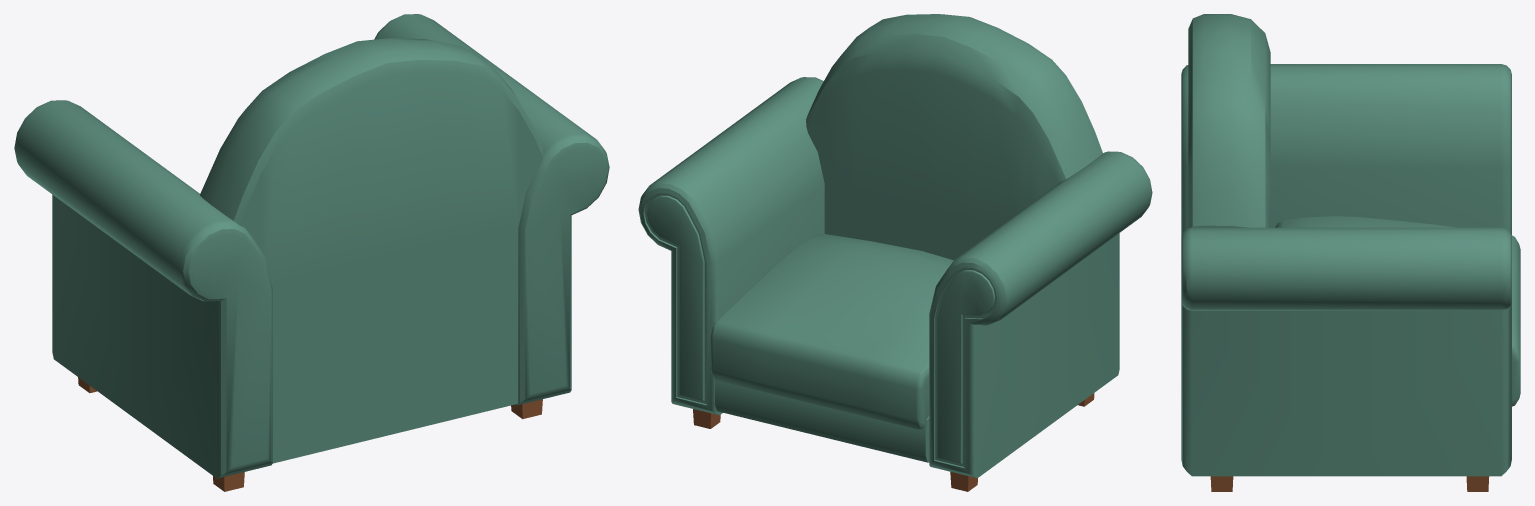
Rendered from Chair_Single_07.glb.
The picture shows the model from 3 angles, left to right: view 1: azimuth 30°, elevation 25°; view 2: azimuth 150°, elevation 25°; view 3: azimuth 270°, elevation 25°; orthographic projection. The views are drawn at different scales.
Visible parts, largest first — view 1: Mesh_Chair_Couch_015; view 2: Mesh_Chair_Couch_015; view 3: Mesh_Chair_Couch_015.
Boxes of the visible parts, x1,y1,x2,y2 form: Mesh_Chair_Couch_015: (14,14,609,491); Mesh_Chair_Couch_015: (638,14,1152,491); Mesh_Chair_Couch_015: (1181,14,1520,491).
Size of the model in its own units: 0.7876 by 0.7071 by 0.5684.
1 material, 1 textured.
